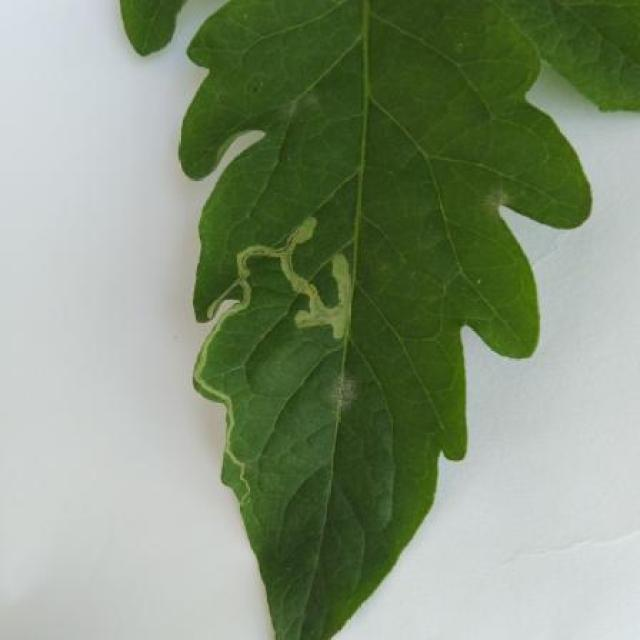Leaf Miner: (174, 0, 592, 640)
